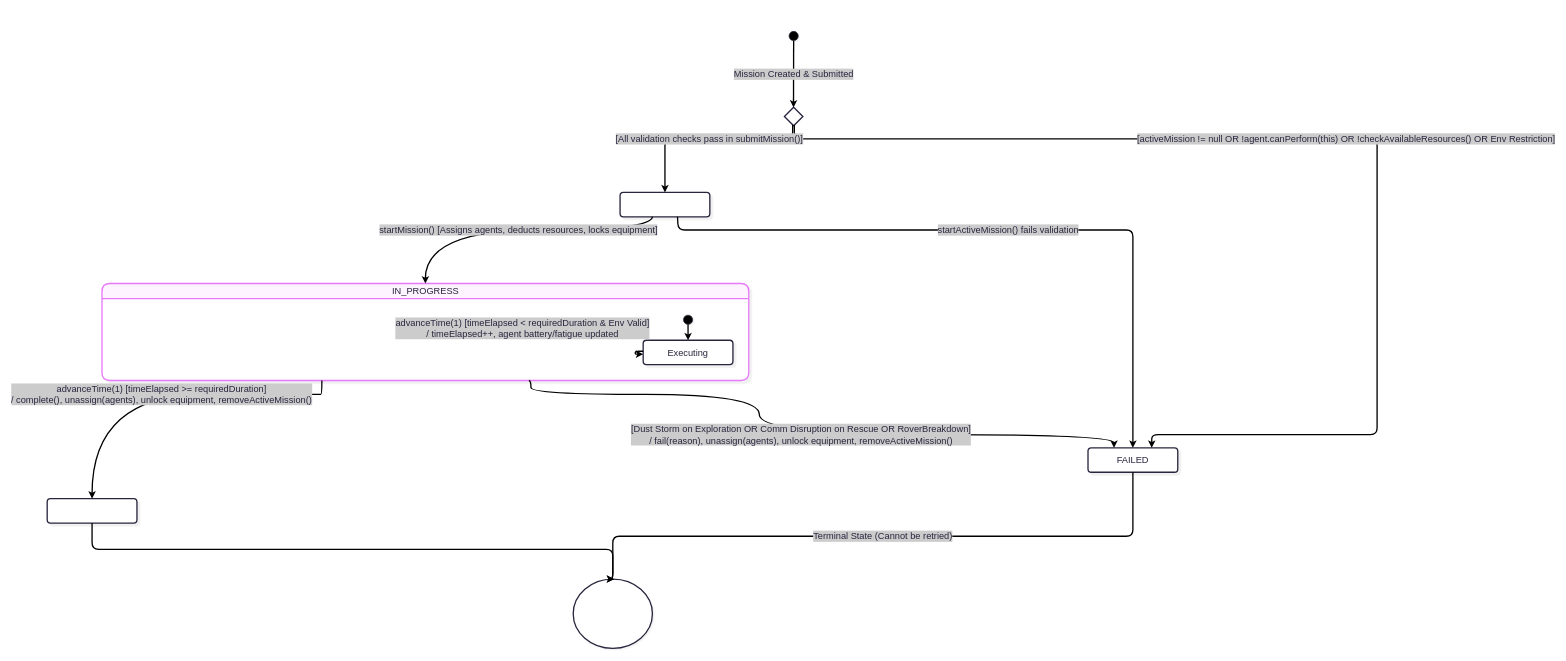
The diagram is 1566 pixels wide and 661 high, and some of its shapes have lost their labels. Each missing label, with the centre of its shape:
"ASSIGNED" goes at (666,205).
"COMPLETED" goes at (93,512).
